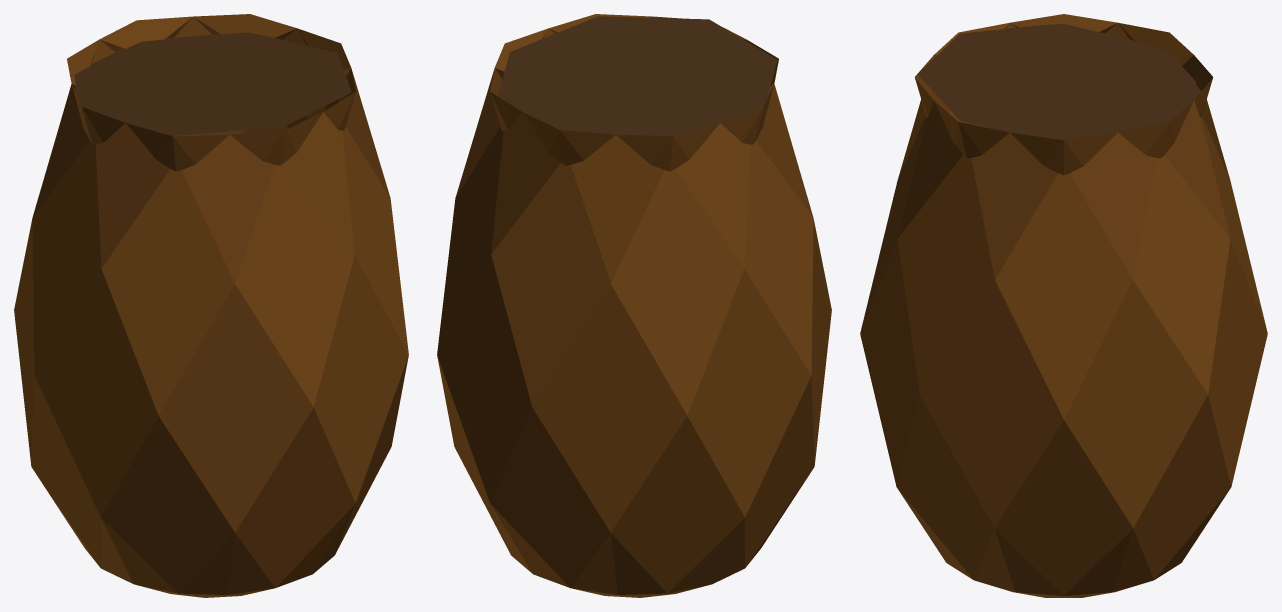
The model's file is vazo1.fbx.
3 renders of one model, left to right at view 1: azimuth 30°, elevation 25°; view 2: azimuth 150°, elevation 25°; view 3: azimuth 270°, elevation 25°, orthographic.
Parts seen in each view (by area): view 1: Cylinder.003; view 2: Cylinder.003; view 3: Cylinder.003.
Part boxes in pixels (box(x1,y1,x2,y2)): Cylinder.003: box(14, 14, 408, 597); Cylinder.003: box(437, 14, 831, 597); Cylinder.003: box(860, 14, 1267, 597).
Bounding box in the file's own units: 291 × 396 × 291.
